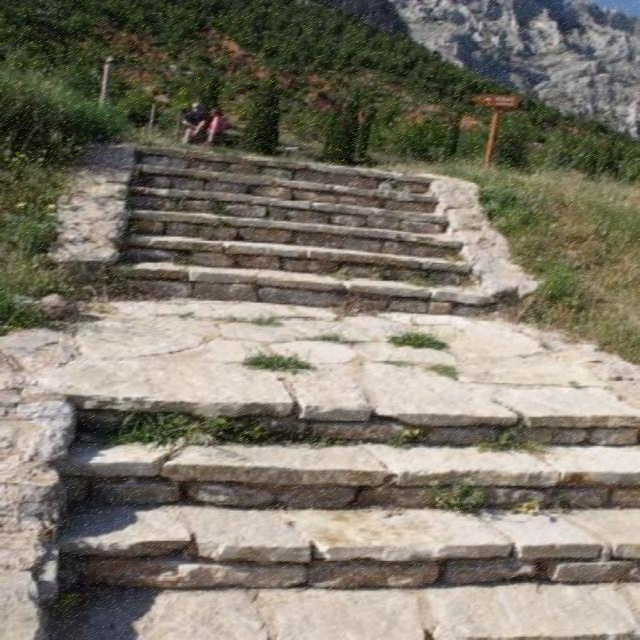stair: (66, 135, 640, 640)
